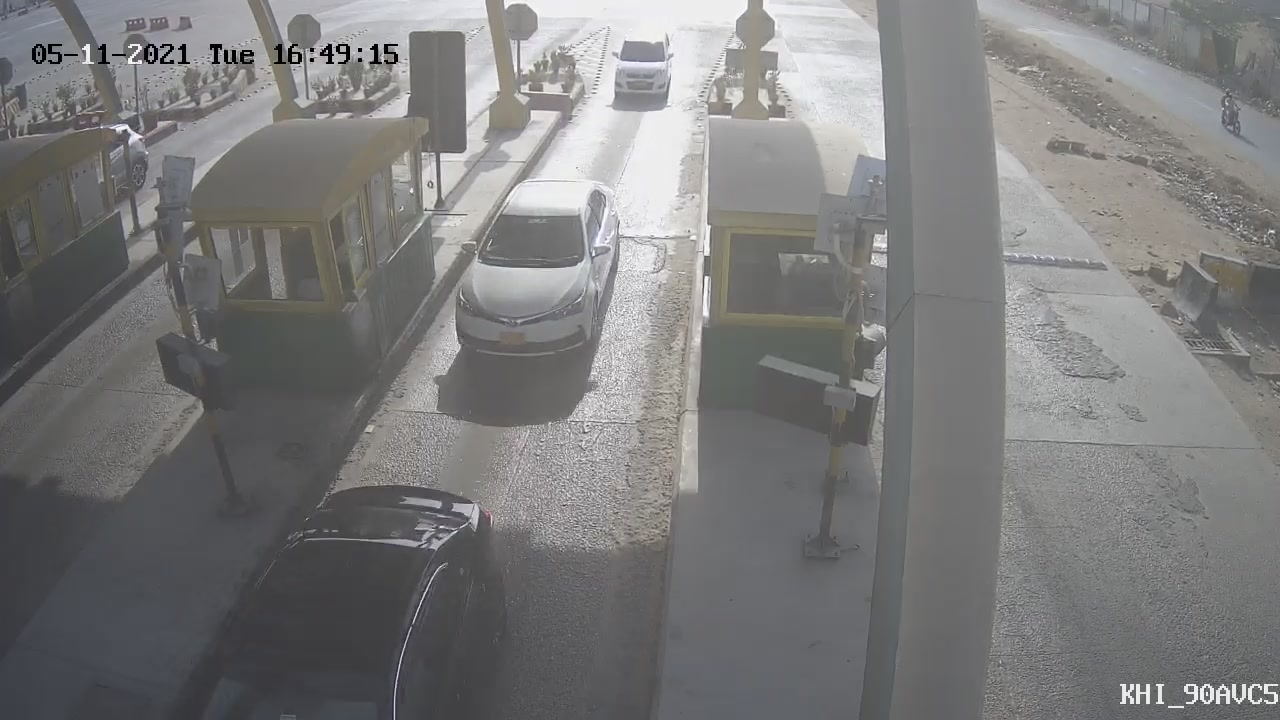F1: (427, 161, 643, 374)
